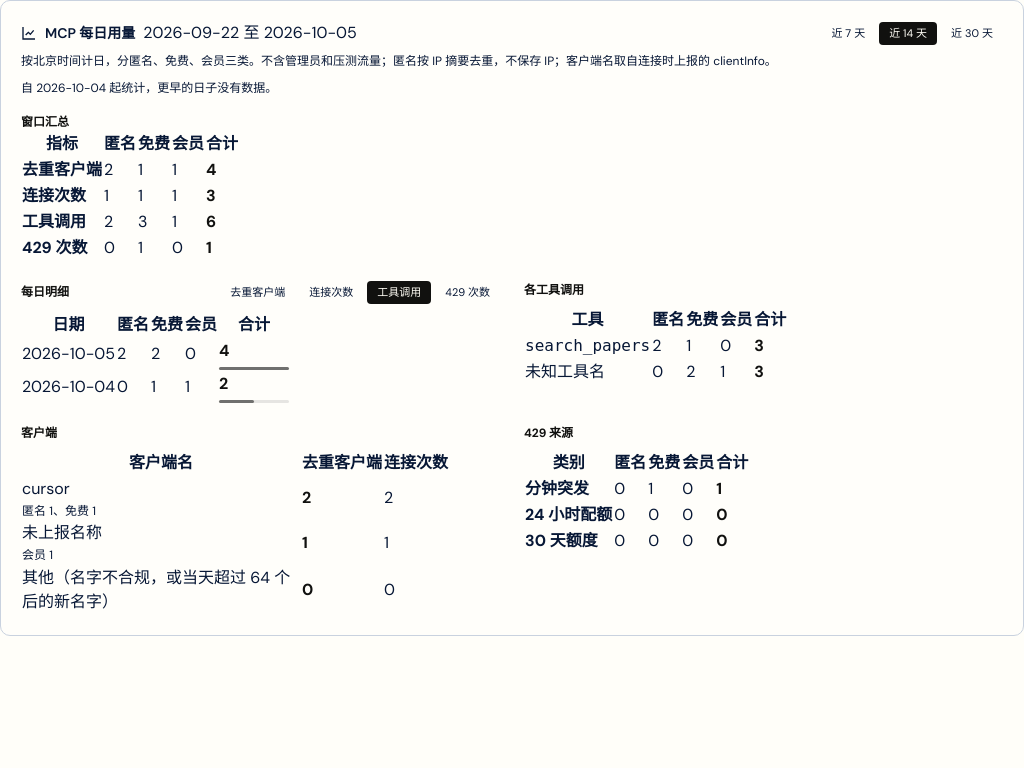
McpDailyUsagePanel › refetches with the selected window when a tab is clicked
Click the button "近 7 天".
click(848, 33)  # box [821,22,875,44]
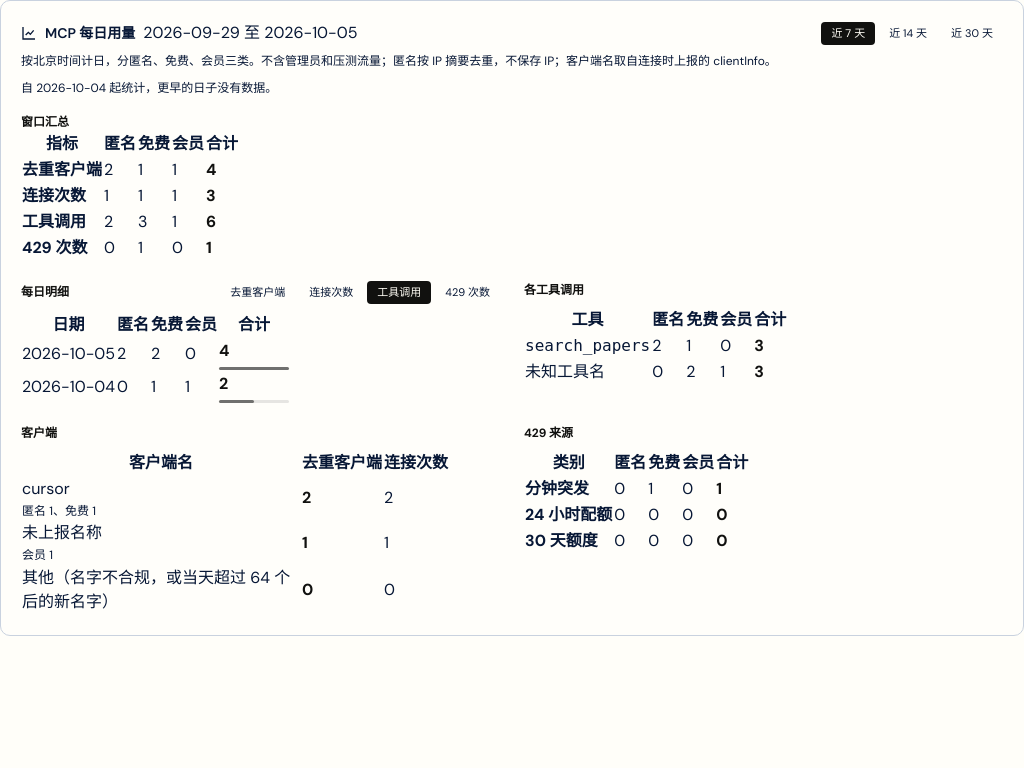
Check: the text "2026-09-29 至 2026-10-05" is shown, box [143,21,357,45]
